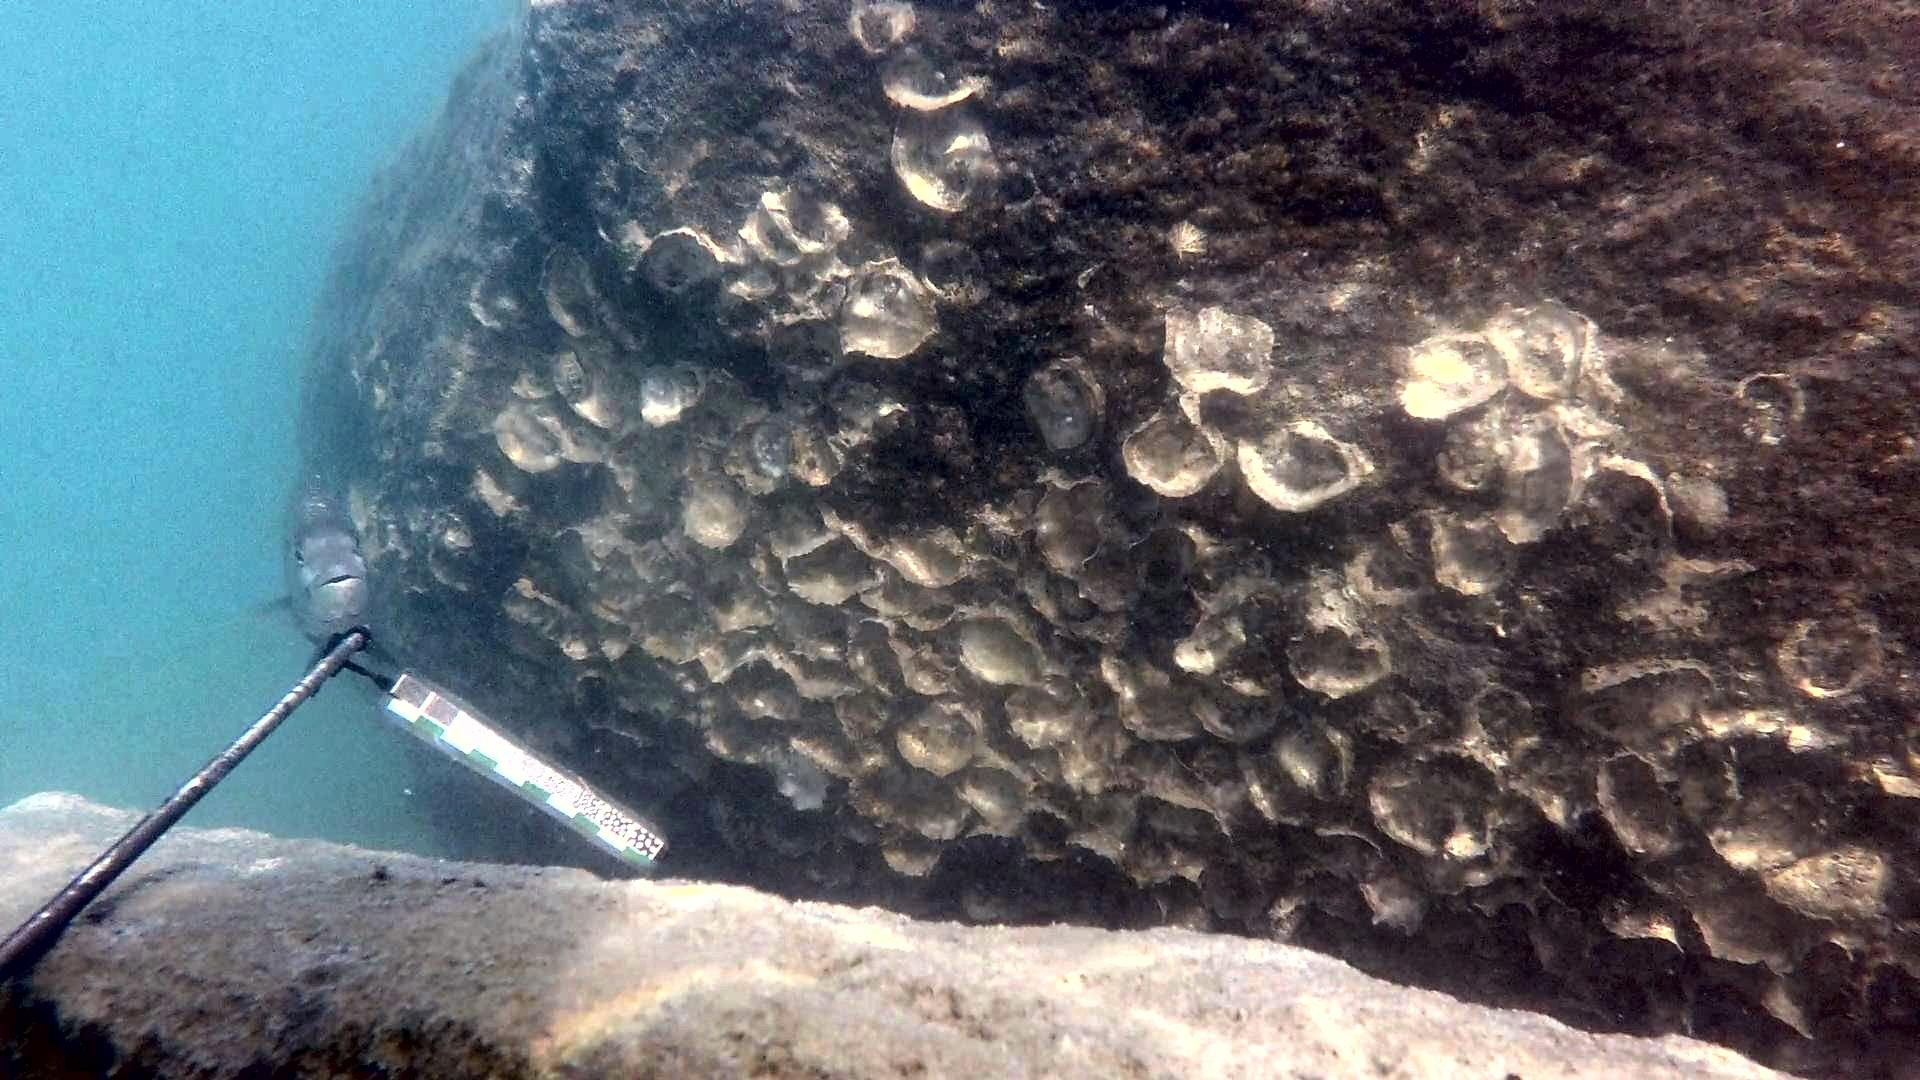acanthopagrus palmaris: (258, 440, 379, 653)
